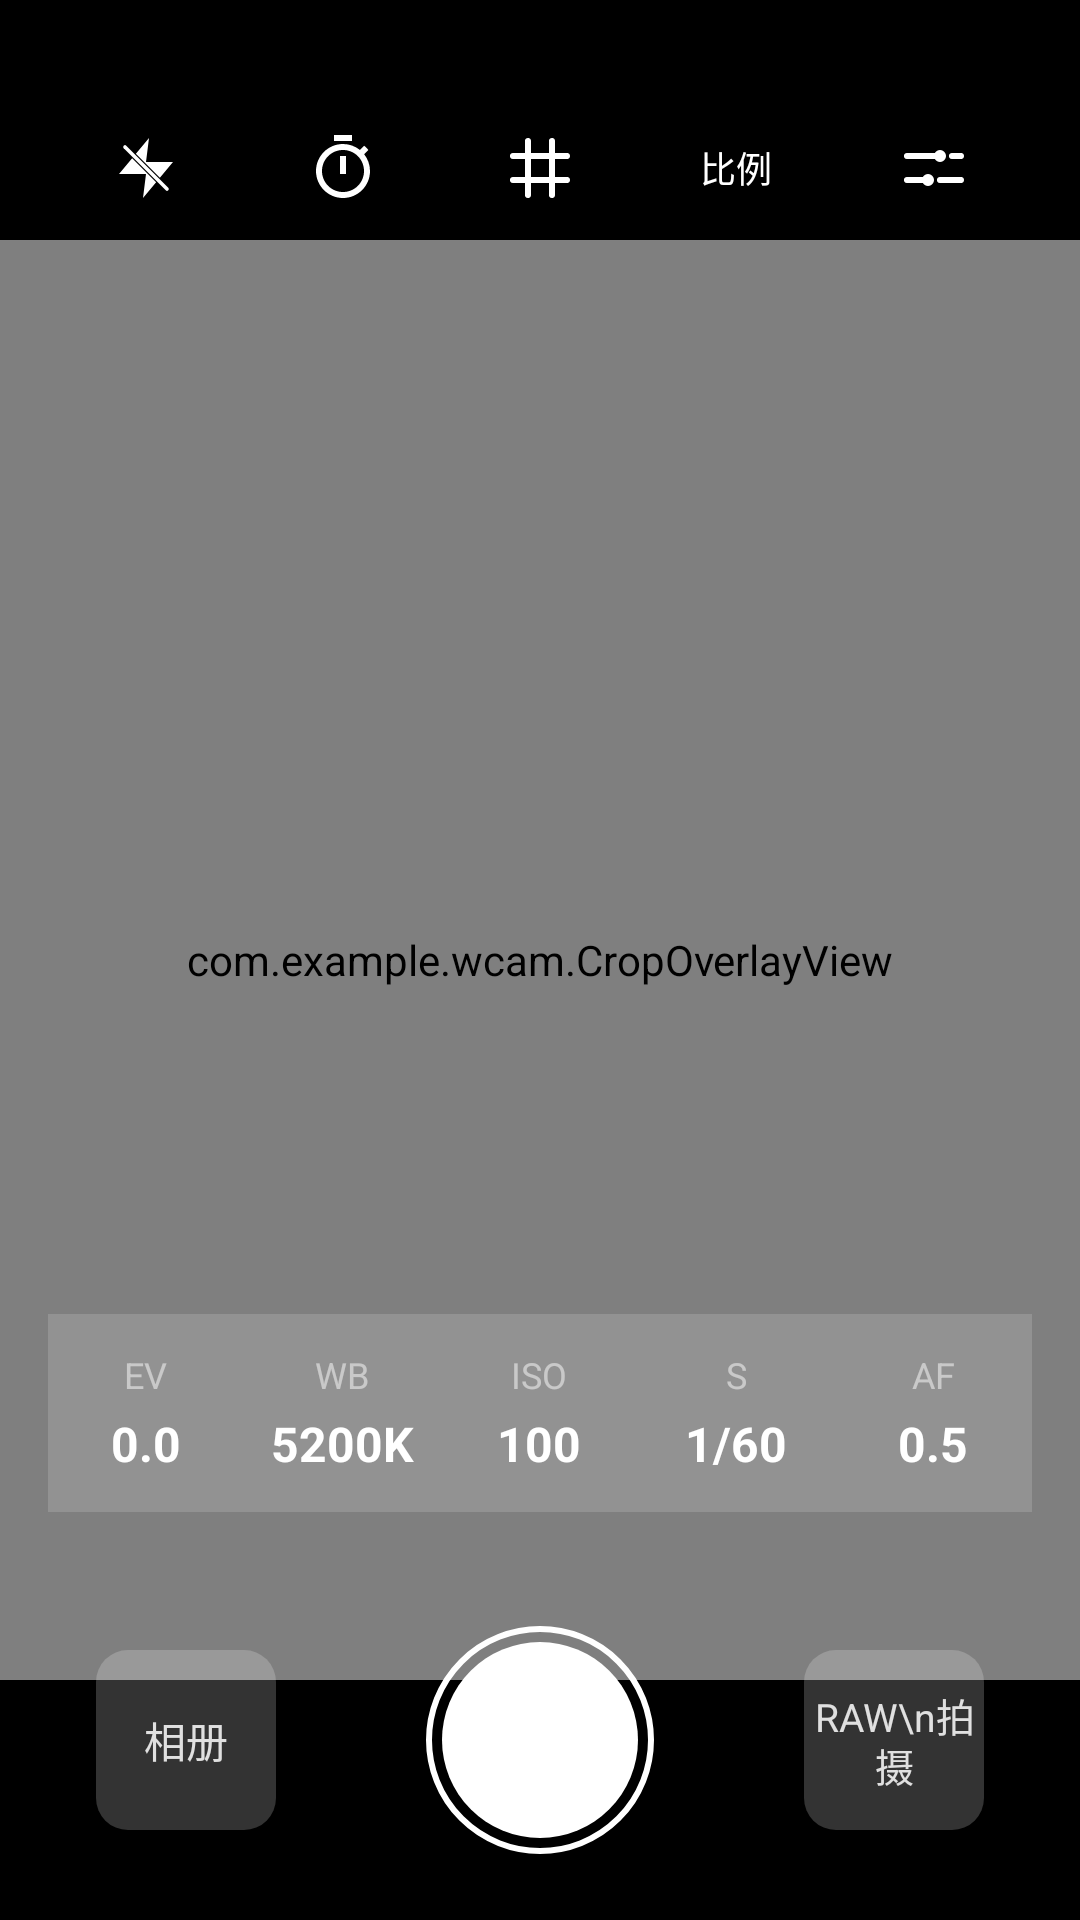

Where to tap for icons on this 1080*1920 app screen, as [x,y]:
Flash: [146,168]
Grid Lines: [540,168]
Settings: [934,168]
Timer: [343,166]
